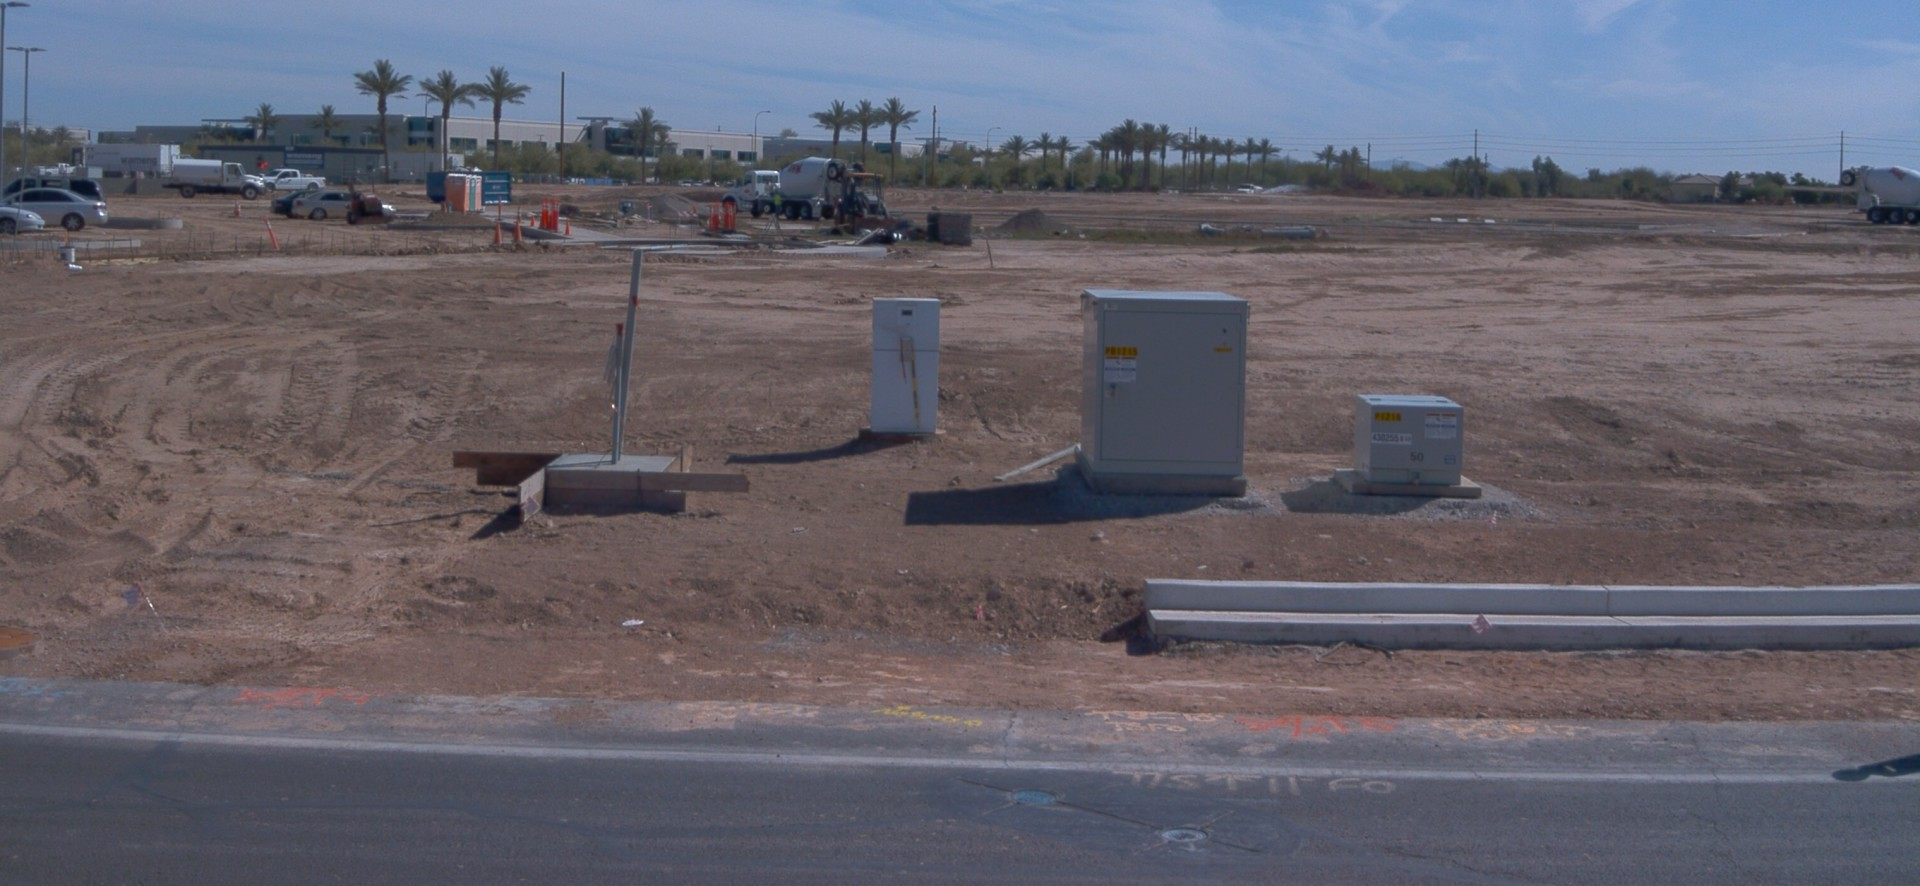TYPE_PEDESTRIAN: (772, 186, 785, 218)
TYPE_VEHICLE: (719, 156, 867, 220), (1838, 159, 1920, 225), (830, 168, 907, 236), (1, 186, 112, 231), (160, 157, 264, 202), (78, 135, 182, 175), (289, 185, 395, 224), (0, 174, 107, 205), (10, 143, 77, 183), (343, 167, 387, 227), (261, 165, 328, 195), (0, 202, 45, 236), (263, 193, 302, 217), (1237, 181, 1264, 195)
